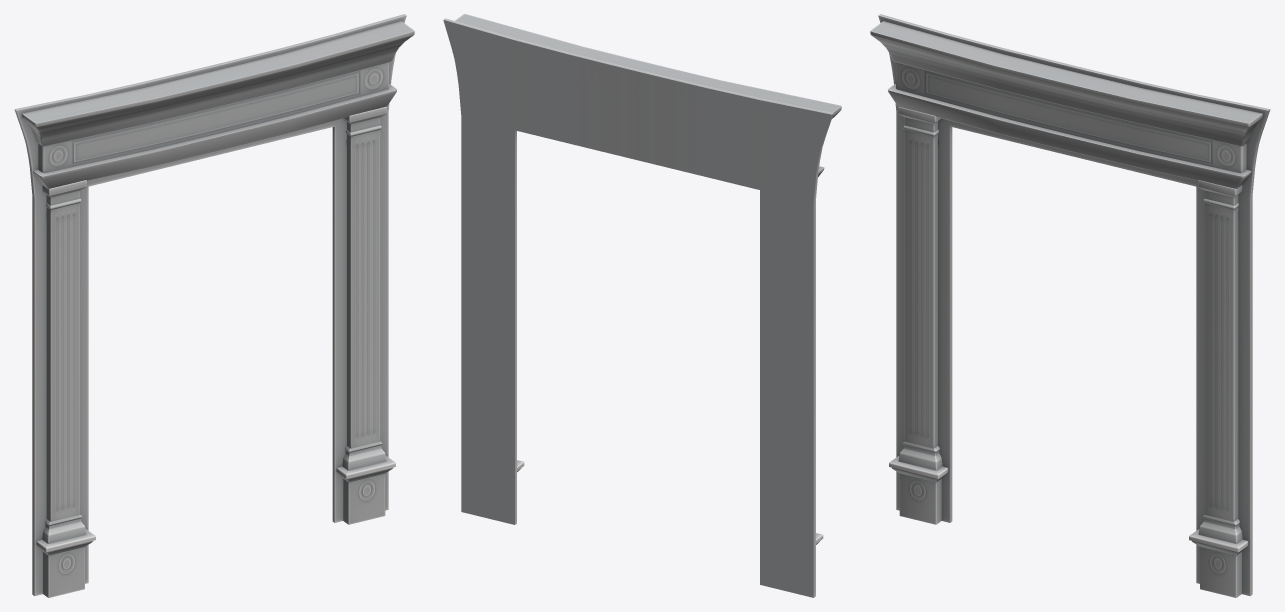
The model's file is PropDoorFrame02TypeA.FBX.
3 views of the same model, side by side, from view 1: azimuth 30°, elevation 25°; view 2: azimuth 150°, elevation 25°; view 3: azimuth 330°, elevation 25° (orthographic).
Parts seen in each view (by area): view 1: PropDoorFrame02TypeA; view 2: PropDoorFrame02TypeA; view 3: PropDoorFrame02TypeA.
Boxes of the visible parts, x1=… form: PropDoorFrame02TypeA: x1=14, y1=14, x2=414, y2=597; PropDoorFrame02TypeA: x1=443, y1=14, x2=841, y2=597; PropDoorFrame02TypeA: x1=870, y1=14, x2=1270, y2=597.
Size of what is drawn, in the model's own units: 2.69 by 3.22 by 0.1907.
